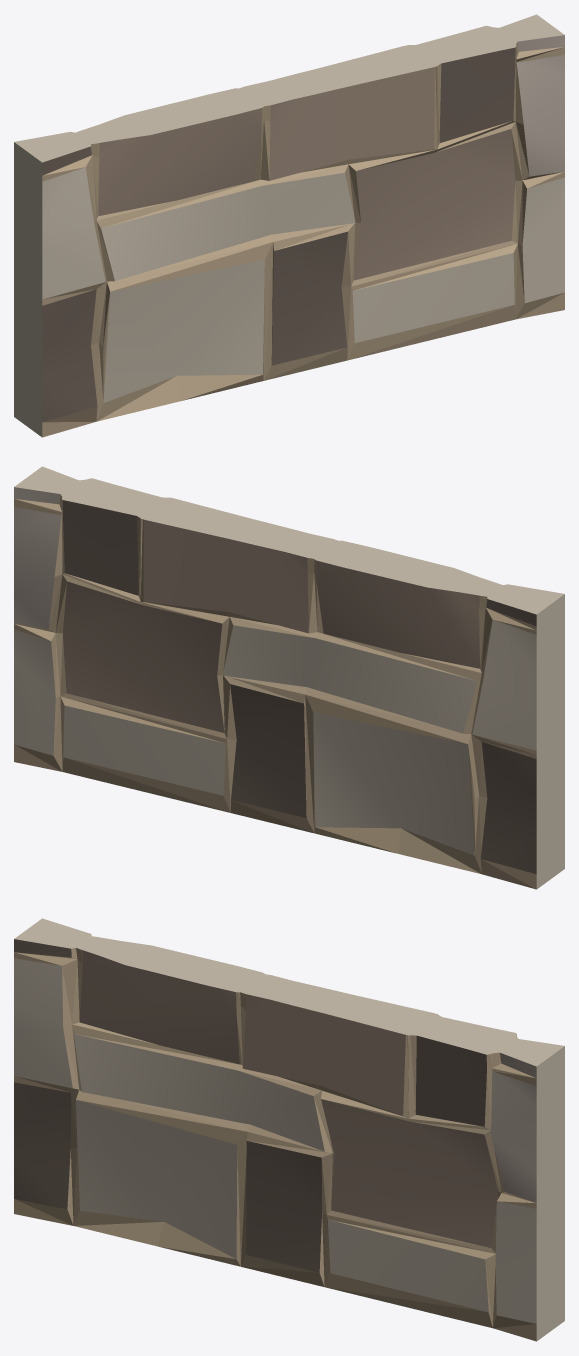
Rendered from RG-Dungeon_small_Wall-01.fbx.
3 renders of one model, top to bottom at view 1: azimuth 30°, elevation 25°; view 2: azimuth 150°, elevation 25°; view 3: azimuth 330°, elevation 25°, orthographic.
Visible parts, largest first — view 1: RG-Dungeon_small_Wall-01; view 2: RG-Dungeon_small_Wall-01; view 3: RG-Dungeon_small_Wall-01.
Boxes of the visible parts, bbox=[...] form: RG-Dungeon_small_Wall-01: bbox=[14, 14, 564, 437]; RG-Dungeon_small_Wall-01: bbox=[14, 466, 564, 889]; RG-Dungeon_small_Wall-01: bbox=[14, 918, 564, 1341].
Size of the model in its own units: 20 by 10.05 by 2.37.
